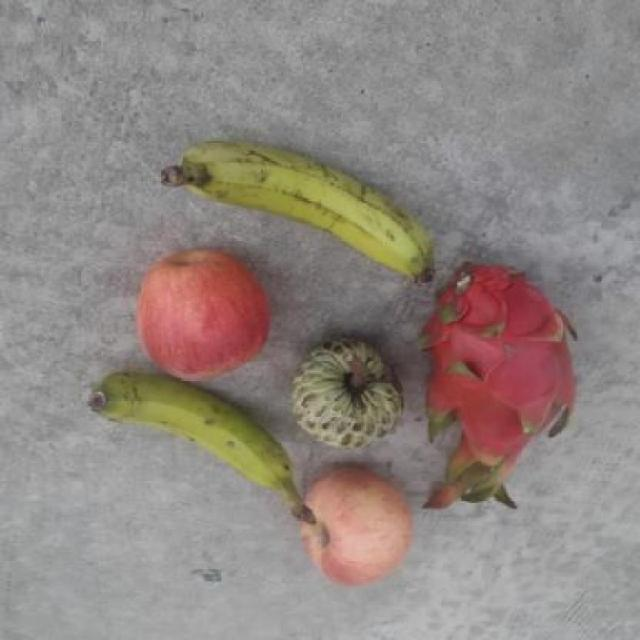apple: (134, 245, 274, 382), (297, 462, 414, 586)
banana: (157, 139, 438, 286), (88, 370, 322, 525)
dragon fruit: (412, 263, 586, 509)
sugar apple: (290, 335, 408, 451)
